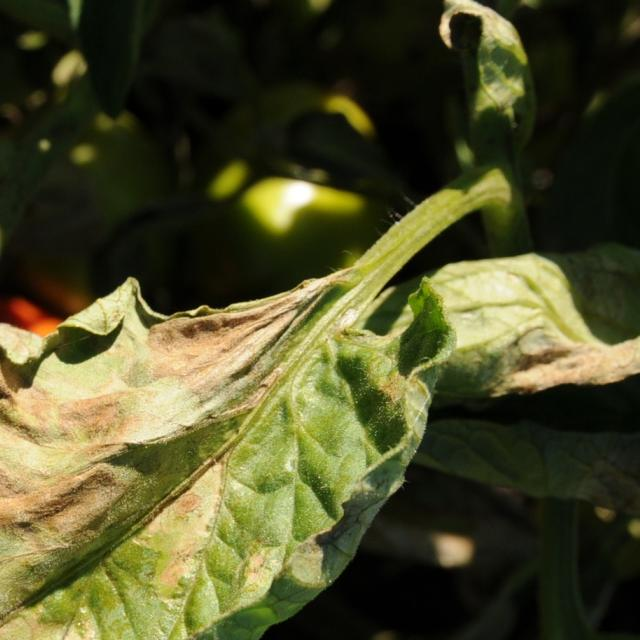Tomato leaf late blight: (0, 265, 412, 640)
